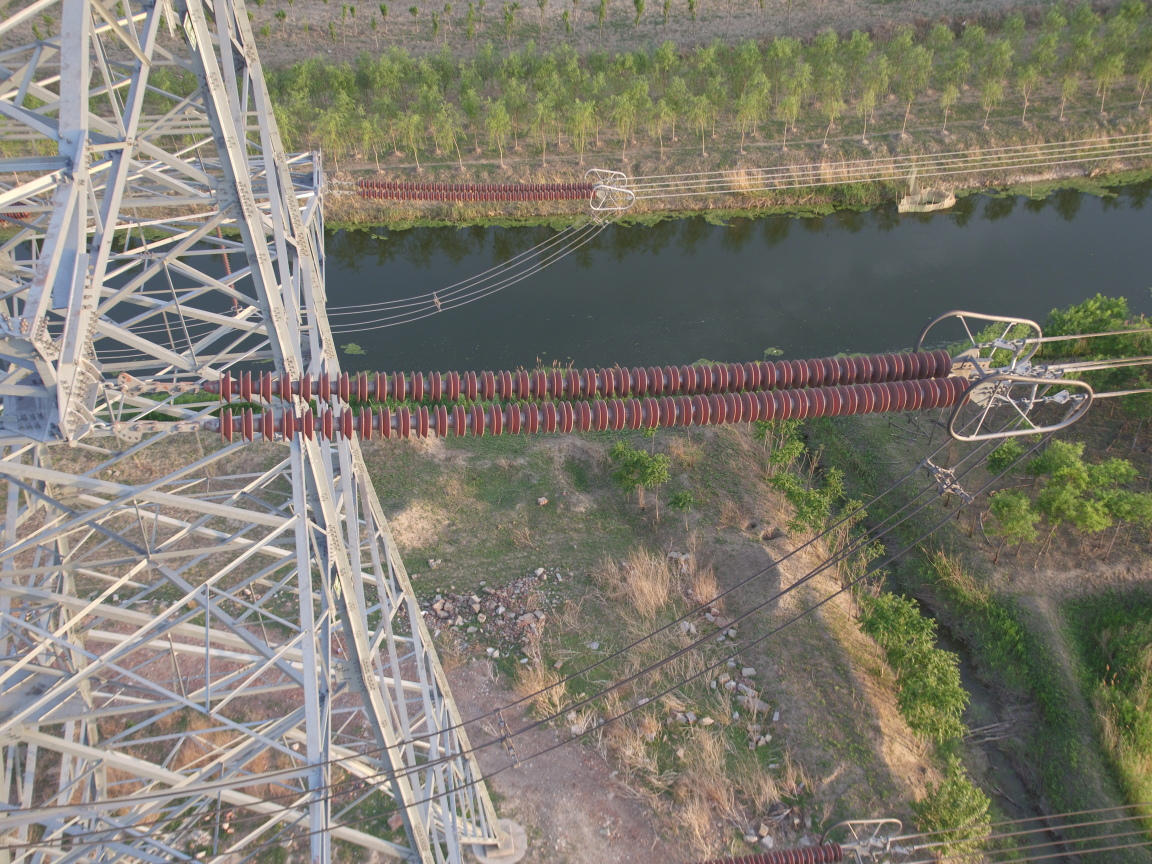insulator: (165, 344, 979, 447), (343, 176, 599, 203)
